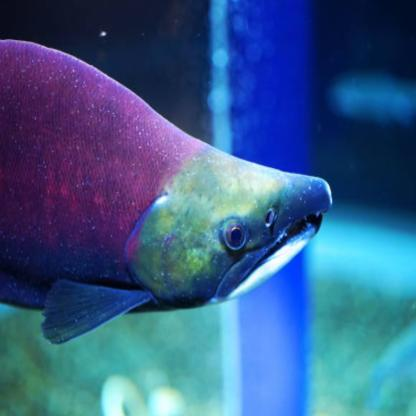sockeye: (0, 33, 326, 343)
